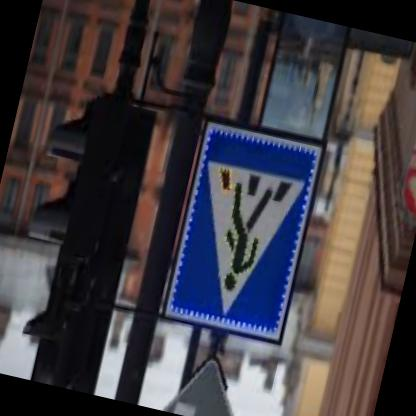crosswalk: (162, 118, 327, 348)
